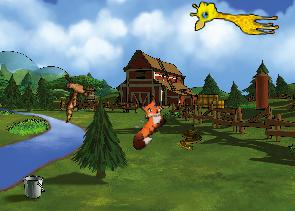eagle: (50, 67, 99, 123)
fox: (115, 91, 175, 153)
giraffe: (189, 0, 280, 35)
